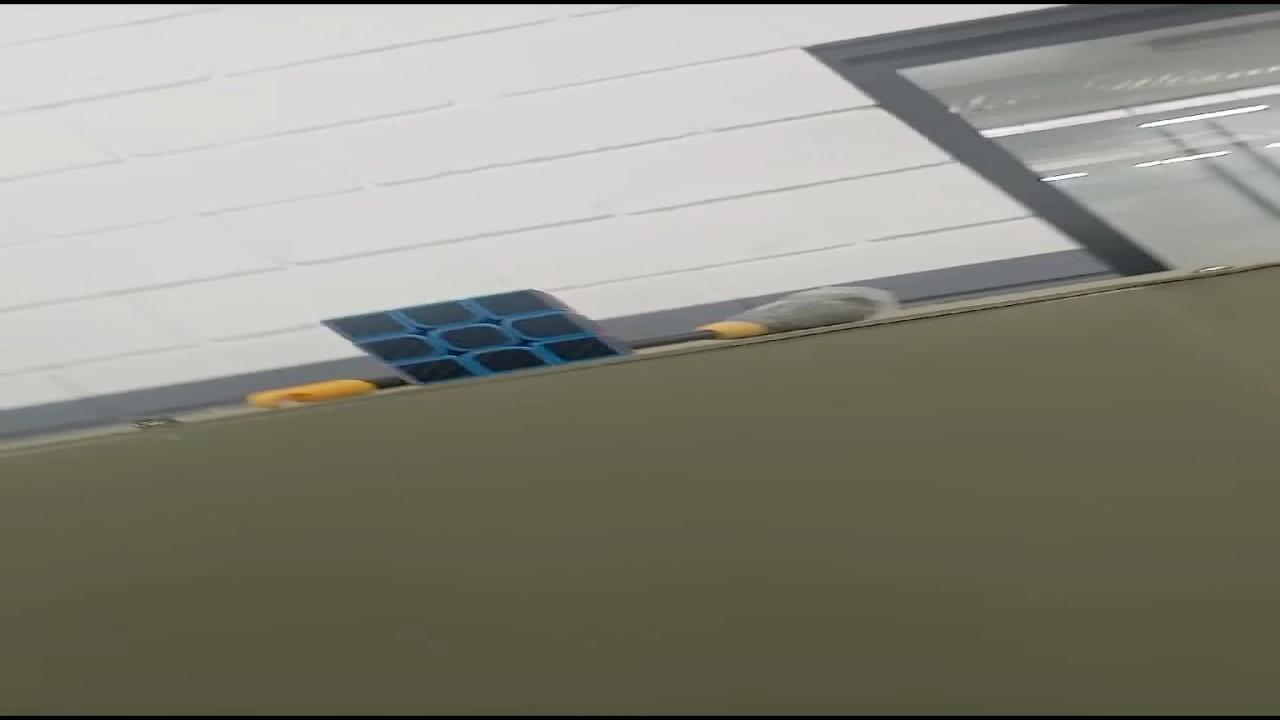Cube: (314, 286, 634, 386)
